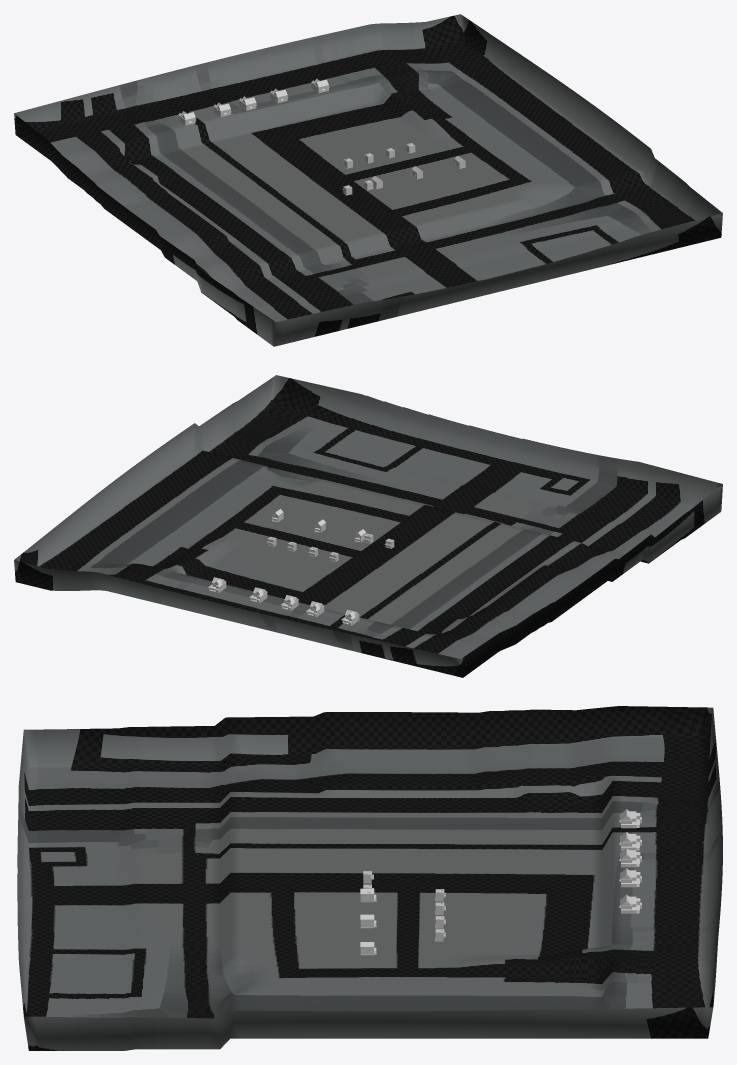
The model's file is city.fbx.
3 renders of one model, top to bottom at view 1: azimuth 30°, elevation 25°; view 2: azimuth 150°, elevation 25°; view 3: azimuth 270°, elevation 25°, orthographic. The views are drawn at different scales.
Visible parts, largest first — view 1: Ground; view 2: Ground; view 3: Ground.
Boxes of the visible parts, bbox=[...] form: Ground: bbox=[14, 14, 722, 346]; Ground: bbox=[14, 375, 722, 677]; Ground: bbox=[17, 706, 722, 1050].
Bounding box in the file's own units: 78873 × 7096 × 80149.
